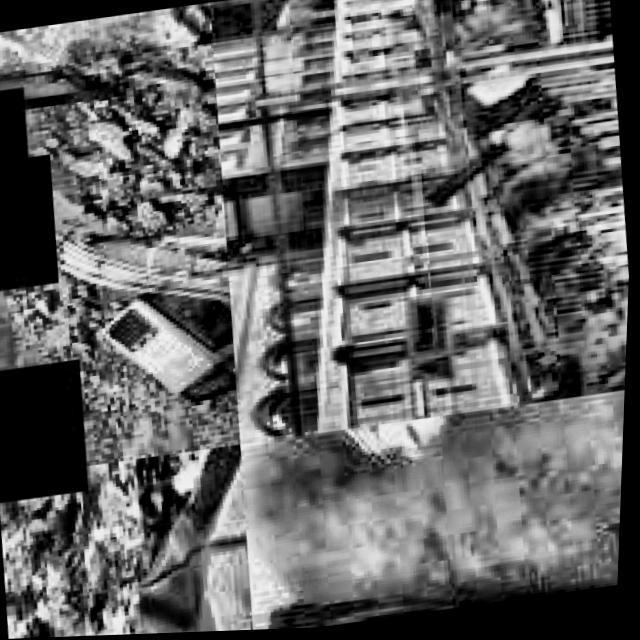excavator: (0, 31, 252, 476)
